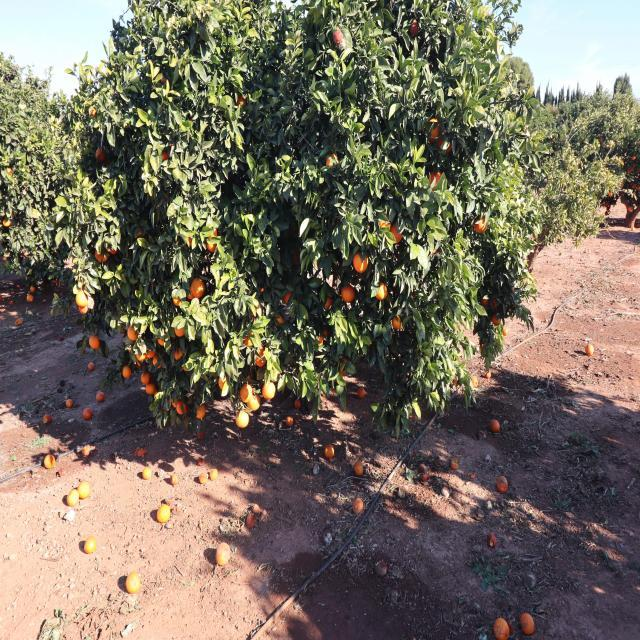Jeruk Sudah Matang: (422, 110, 444, 145), (339, 280, 359, 308), (373, 278, 390, 306), (190, 275, 208, 301), (171, 321, 189, 344), (352, 252, 370, 274), (429, 170, 446, 193), (253, 346, 270, 368), (74, 290, 93, 309), (94, 247, 112, 266), (240, 380, 253, 406), (242, 328, 258, 349), (234, 410, 252, 428), (262, 382, 278, 402), (205, 234, 219, 256), (437, 136, 454, 154), (216, 373, 232, 392), (194, 402, 210, 420), (473, 215, 489, 233), (274, 312, 290, 330), (390, 224, 404, 244), (158, 146, 174, 162), (92, 148, 108, 164), (325, 153, 340, 170), (120, 364, 134, 382), (322, 293, 334, 314), (170, 292, 185, 308), (282, 289, 298, 304), (184, 233, 197, 251), (106, 242, 122, 255), (174, 399, 186, 416), (90, 334, 101, 352), (250, 308, 264, 322), (140, 370, 152, 386), (136, 348, 148, 364), (392, 314, 403, 331), (152, 354, 165, 368), (128, 323, 138, 341), (236, 95, 248, 109), (145, 383, 156, 398), (158, 326, 166, 346), (176, 348, 186, 364), (491, 314, 502, 328), (171, 396, 182, 409), (78, 302, 88, 316), (146, 348, 156, 362), (89, 107, 100, 118), (480, 296, 490, 308), (2, 218, 12, 228)
